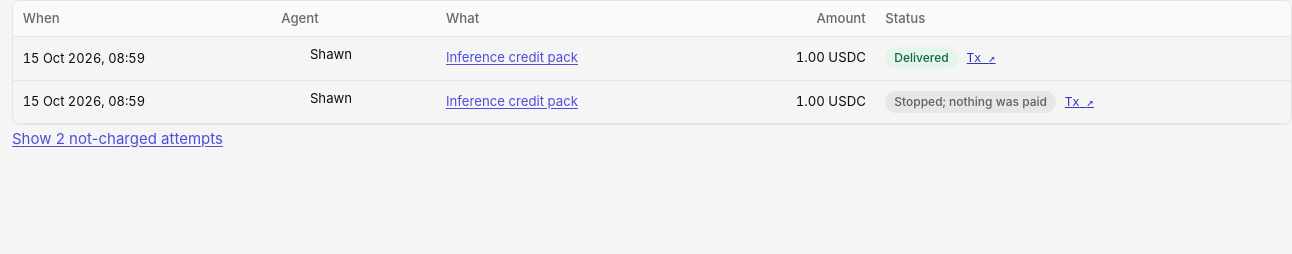
Test case: recent payments table › collapses not-charged attempts from archived agents behind a toggle and labels them Not charged
Expected: the text "Not charged" is not shown
Click the button "Show 2 not-charged attempts" at (117, 139), box [12,125,223,152]
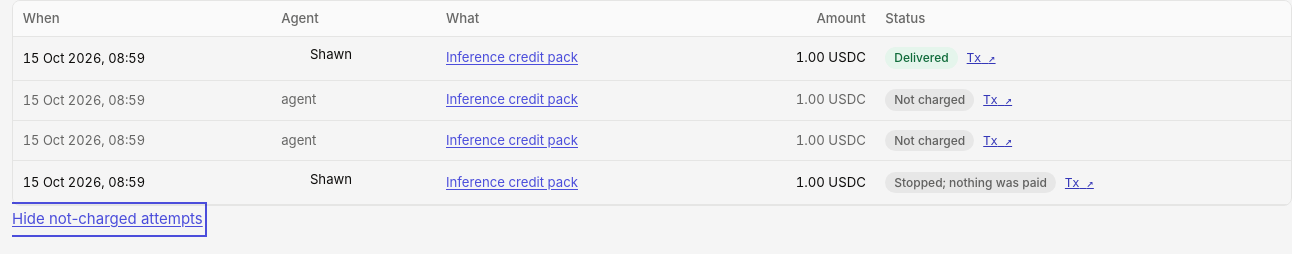
Result: the text "Not charged" is shown 2 times at [885,89,974,111]; [885,130,974,151]
Result: the button "Hide not-charged attempts" is shown at [12,206,203,233]
